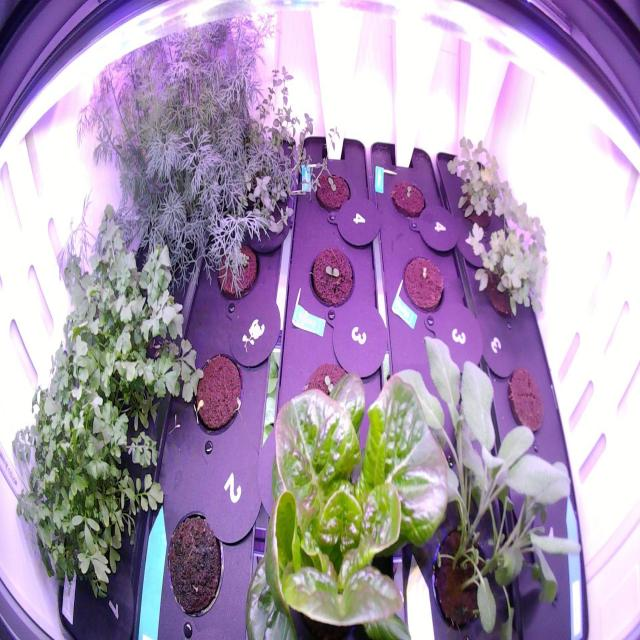Ready: (231, 350, 455, 640)
empty_pod: (525, 496, 576, 589)
germination: (295, 349, 361, 441), (304, 236, 358, 313), (397, 244, 449, 319), (310, 159, 355, 216), (386, 174, 430, 224)
pod: (157, 504, 231, 625), (184, 339, 247, 443), (502, 356, 552, 441)
